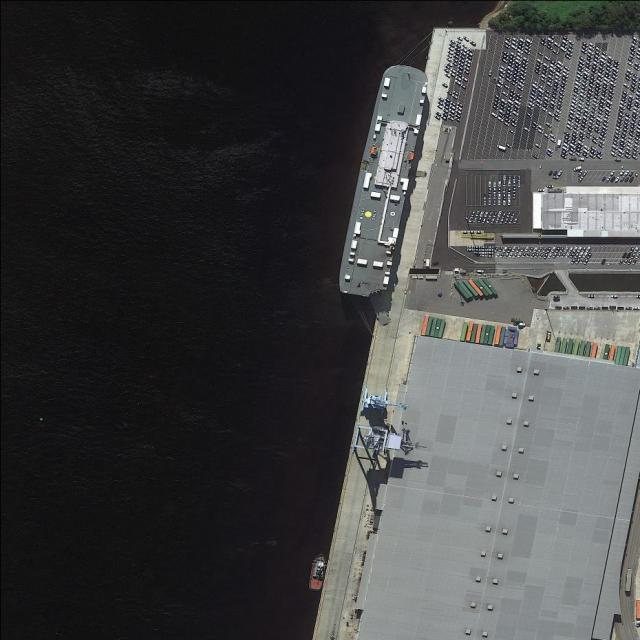Hovercraft: (308, 555, 326, 590)
RoRo: (332, 55, 434, 304)
